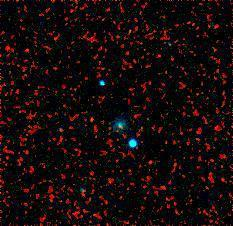star: (79, 102, 109, 132)
